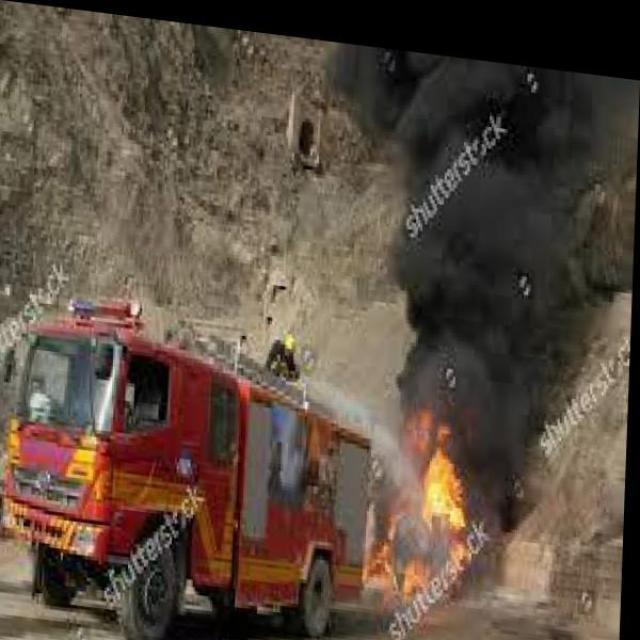emergency: (0, 306, 376, 638)
